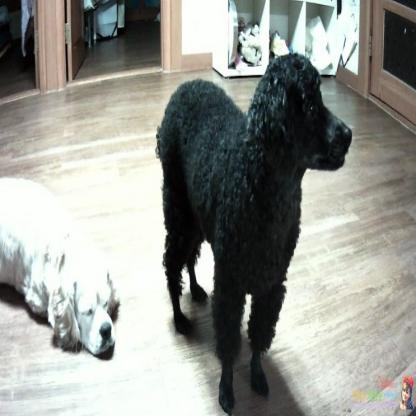dog: (152, 50, 354, 412), (0, 172, 121, 369)
